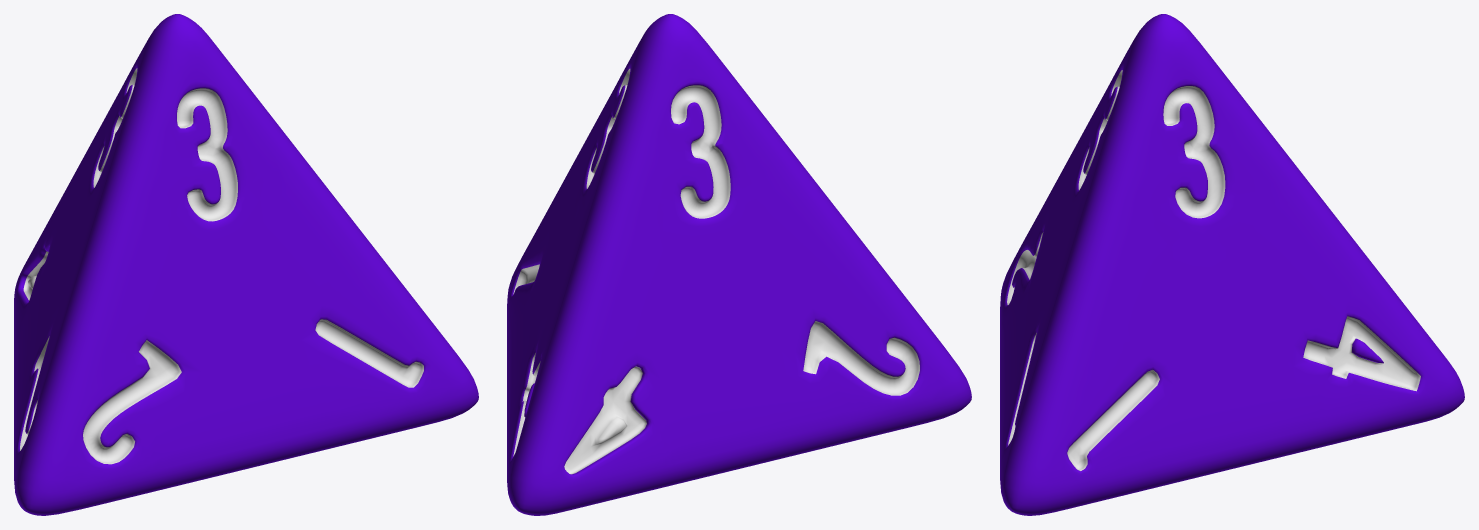
Rendered from Dice_D4.fbx.
The picture shows the model from 3 angles, left to right: view 1: azimuth 30°, elevation 25°; view 2: azimuth 150°, elevation 25°; view 3: azimuth 270°, elevation 25°; orthographic projection.
Visible parts, largest first — view 1: Cone.001; view 2: Cone.001; view 3: Cone.001.
Boxes of the visible parts, x1,y1,x2,y2 form: Cone.001: [14, 14, 478, 515]; Cone.001: [507, 14, 971, 515]; Cone.001: [1000, 14, 1464, 515].
Size of the model in its own units: 218 by 184 by 193.
